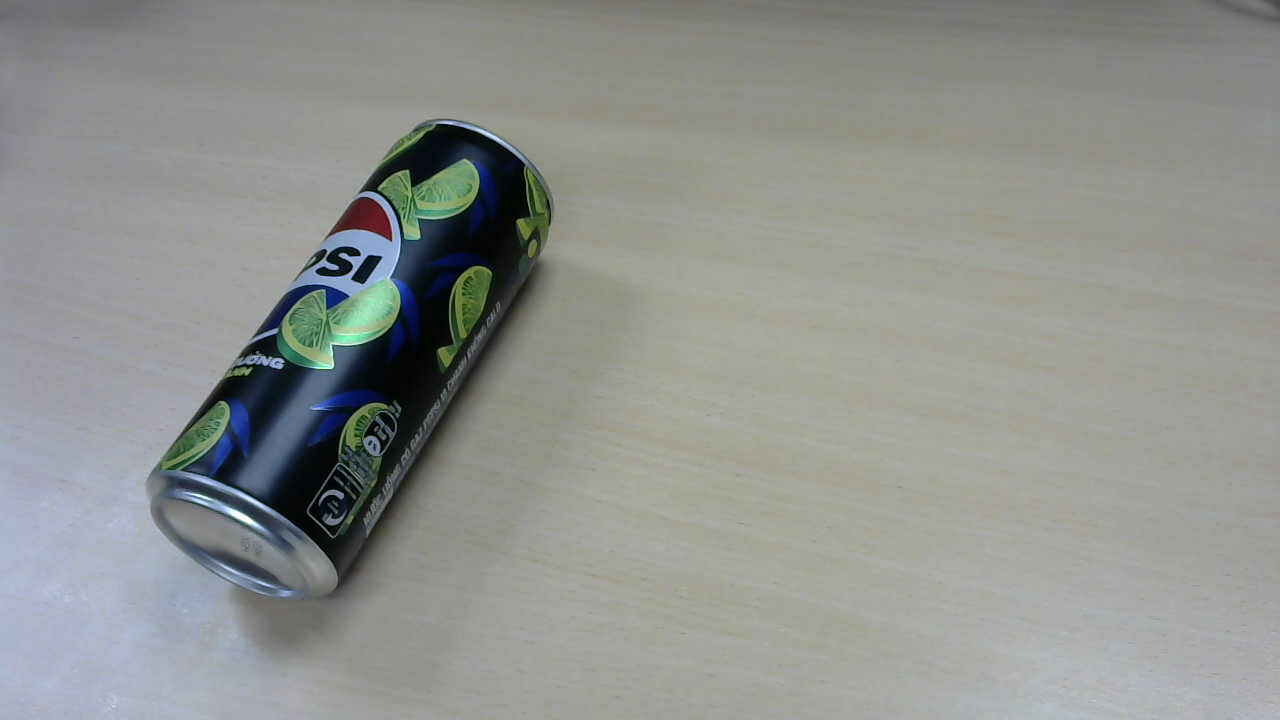Pepsi: (151, 122, 558, 606)
